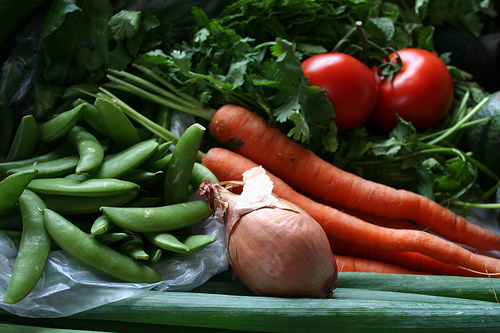onion: (198, 180, 339, 298)
